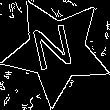N_S: (32, 21, 81, 80)
